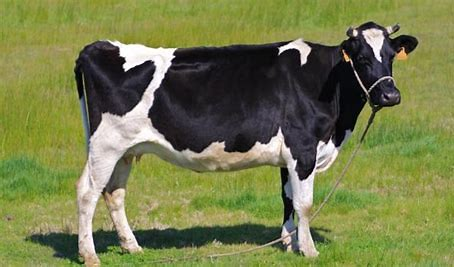waka: (43, 13, 425, 249)
